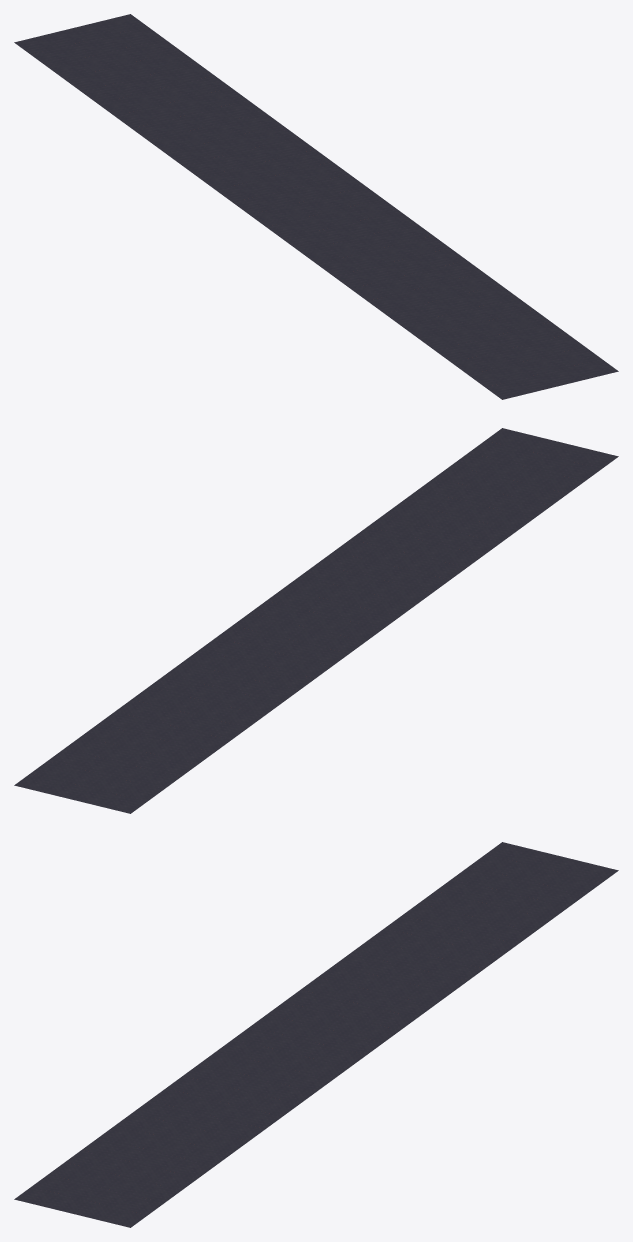
Rendered from RoadFull.fbx.
3 views of the same model, one above another, from view 1: azimuth 30°, elevation 25°; view 2: azimuth 150°, elevation 25°; view 3: azimuth 330°, elevation 25° (orthographic).
Bounding box in the file's own units: 148 × 1.32e-05 × 20.43.
